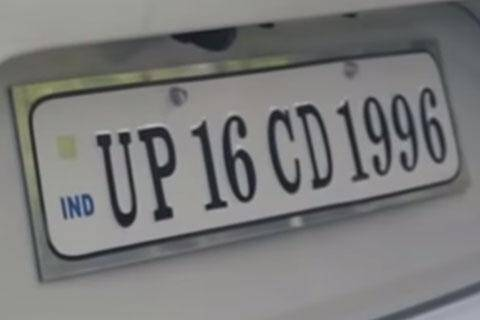numberplate: (6, 48, 464, 266)
